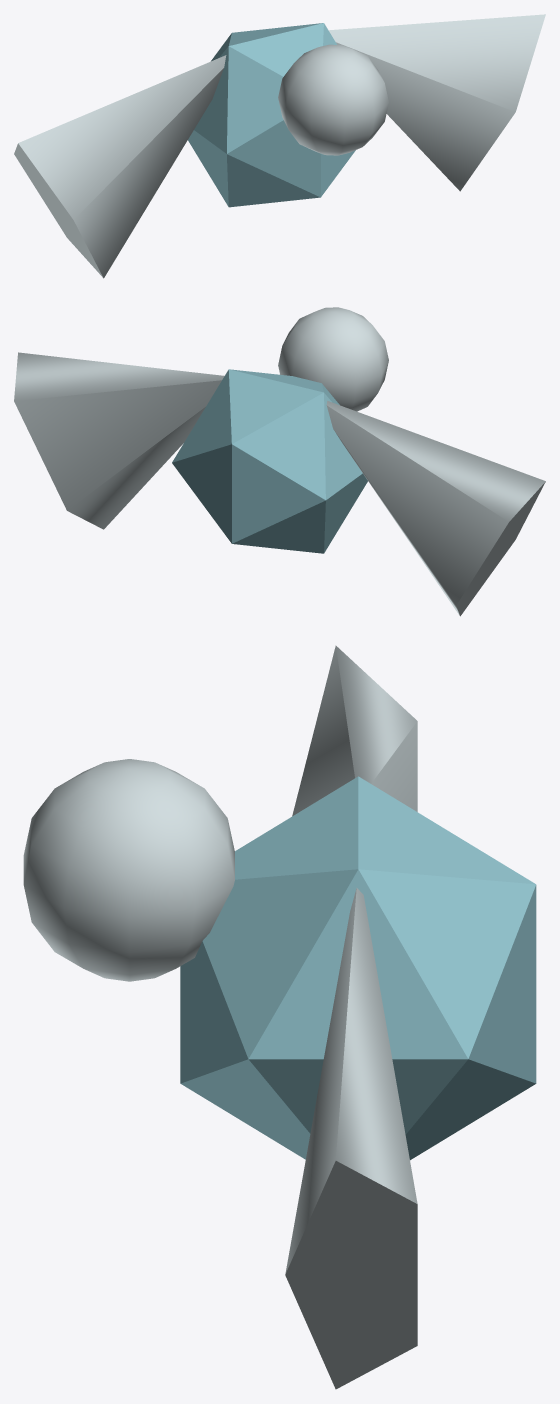
File: snow_owl.glb
3 renders of one model, top to bottom at view 1: azimuth 30°, elevation 25°; view 2: azimuth 150°, elevation 25°; view 3: azimuth 270°, elevation 25°, orthographic. The views are drawn at different scales.
Parts seen in each view (by area): view 1: wing_-1, wing_1, body_core, head_core; view 2: body_core, wing_1, wing_-1, head_core; view 3: body_core, wing_1, head_core, wing_-1.
Boxes of the visible parts, bbox=[...] form: wing_-1: bbox=[14, 55, 226, 278]; wing_1: bbox=[328, 14, 545, 191]; body_core: bbox=[188, 23, 355, 207]; head_core: bbox=[278, 44, 388, 155]; body_core: bbox=[172, 369, 367, 553]; wing_1: bbox=[14, 352, 224, 529]; wing_-1: bbox=[326, 401, 545, 616]; head_core: bbox=[278, 307, 388, 411]; body_core: bbox=[180, 776, 536, 1160]; wing_1: bbox=[285, 888, 417, 1389]; head_core: bbox=[23, 759, 234, 981]; wing_-1: bbox=[292, 645, 417, 816].
Size of what is drawn, in the model's own units: 4.37 by 1.77 by 1.84.
